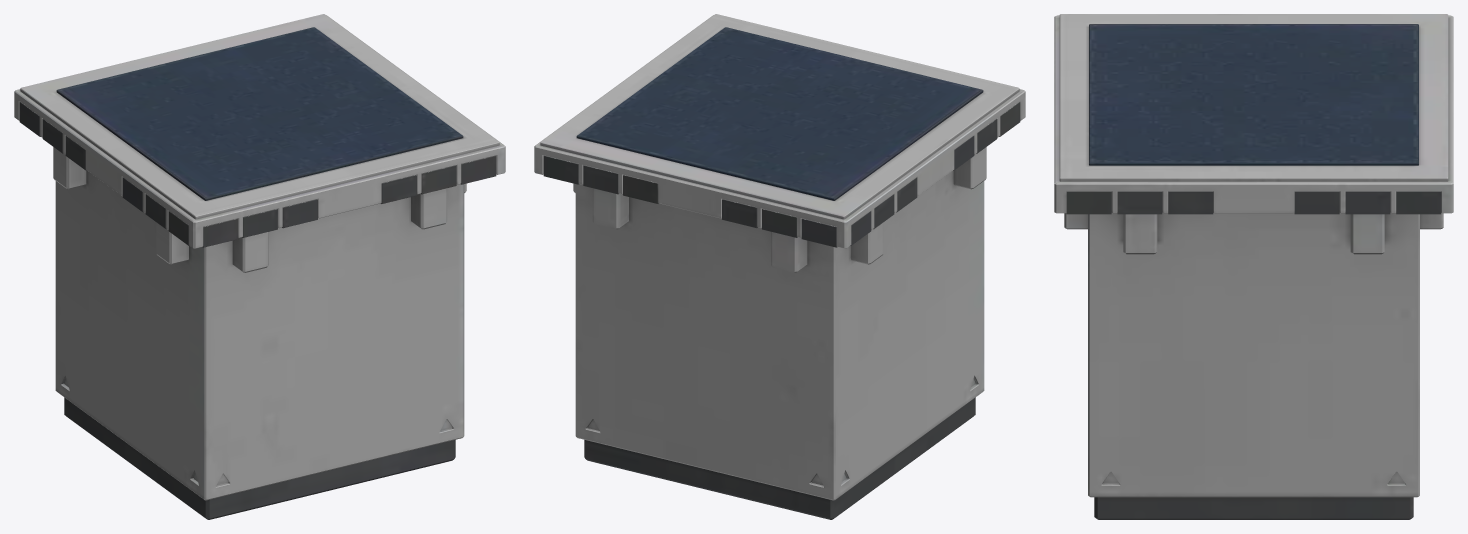
The model's file is SM_Floor_SF_8e5db1.glb.
3 renders of one model, left to right at view 1: azimuth 30°, elevation 25°; view 2: azimuth 150°, elevation 25°; view 3: azimuth 270°, elevation 25°, orthographic. The views are drawn at different scales.
Bounding box in the file's own units: 4 × 3.98 × 4.
1 material, 1 textured.
